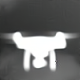plane: (2, 31, 79, 73)
